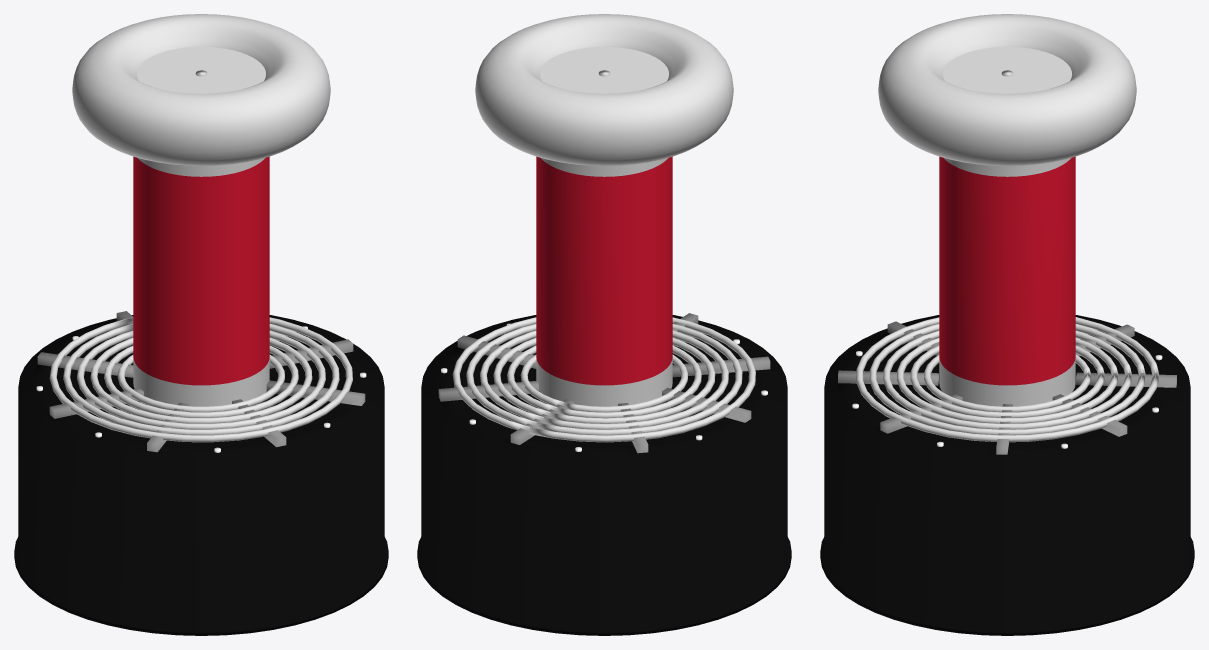
The model's file is teslatrafo.fbx.
3 views of the same model, side by side, from view 1: azimuth 30°, elevation 25°; view 2: azimuth 150°, elevation 25°; view 3: azimuth 270°, elevation 25° (orthographic).
Parts seen in each view (by area): view 1: stand_bottom, stand, electrode, loop6, loop5, loop4, loop3, loop2, loop1; view 2: stand_bottom, stand, electrode, loop6, loop5, loop4, loop3, loop2, loop1; view 3: stand_bottom, stand, electrode, loop6, loop5, loop4, loop3, loop2, loop1.
Part boxes in pixels (x1,y1,x2,y2): stand_bottom: [14, 311, 388, 635]; stand: [133, 46, 269, 406]; electrode: [72, 14, 330, 165]; loop6: [49, 317, 352, 442]; loop5: [63, 323, 339, 435]; loop4: [77, 330, 325, 429]; loop3: [90, 337, 312, 423]; loop2: [104, 345, 298, 417]; loop1: [117, 354, 284, 412]; stand_bottom: [417, 313, 791, 635]; stand: [536, 46, 672, 406]; electrode: [475, 14, 733, 165]; loop6: [452, 317, 755, 442]; loop5: [466, 324, 742, 435]; loop4: [480, 330, 728, 429]; loop3: [493, 337, 715, 423]; loop2: [507, 345, 701, 418]; loop1: [520, 354, 687, 412]; stand_bottom: [820, 315, 1194, 635]; stand: [939, 46, 1075, 406]; electrode: [878, 14, 1136, 165]; loop6: [856, 317, 1159, 442]; loop5: [869, 324, 1145, 435]; loop4: [883, 330, 1131, 429]; loop3: [897, 337, 1118, 423]; loop2: [910, 345, 1104, 417]; loop1: [924, 354, 1090, 412].
Size of the model in its own units: 607 by 895 by 607.
